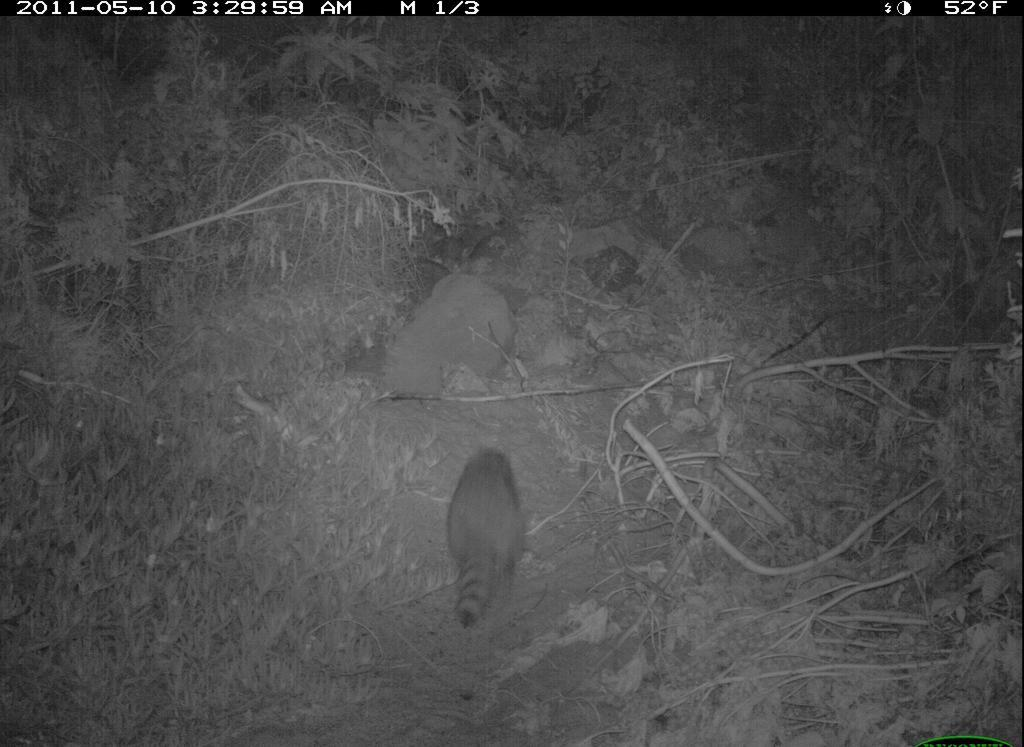raccoon: (436, 427, 547, 628)
